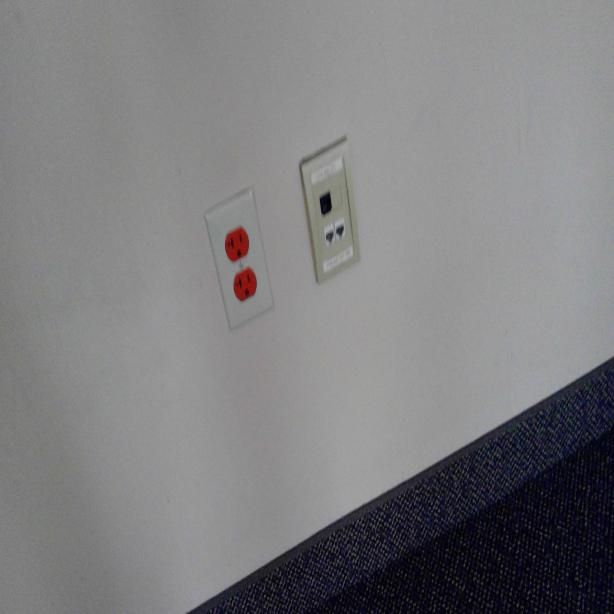typeb: (232, 268, 258, 300), (226, 228, 249, 258)
